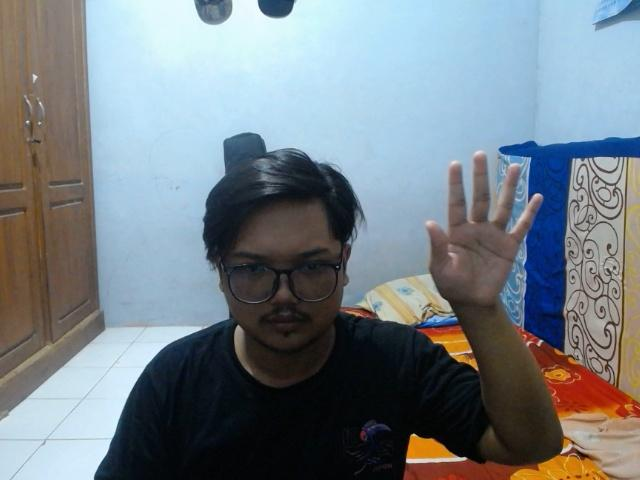Release: (420, 142, 548, 320)
